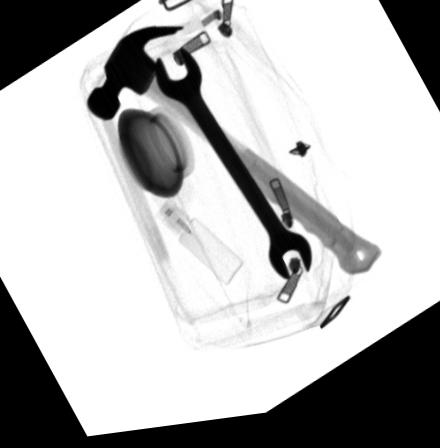Hammer: (84, 29, 382, 282)
Wrench: (153, 51, 314, 284)
